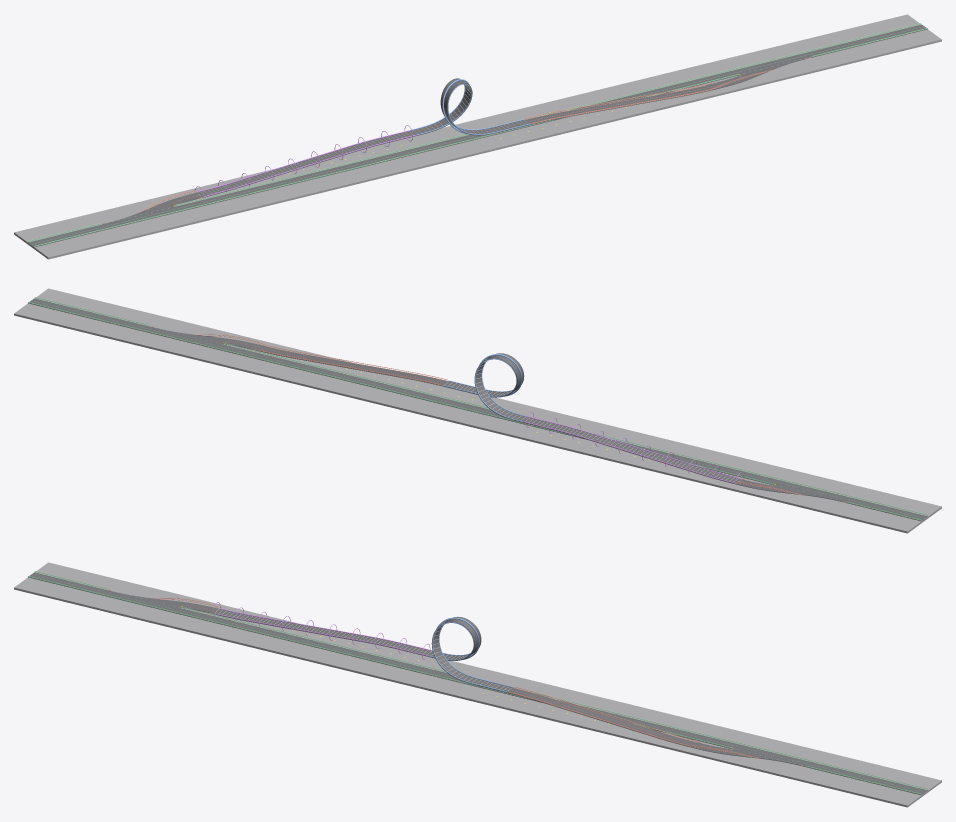
The model's file is lp01_loop_proof_v3.glb.
3 views of the same model, one above another, from view 1: azimuth 30°, elevation 25°; view 2: azimuth 150°, elevation 25°; view 3: azimuth 330°, elevation 25° (orthographic).
Parts seen in each view (by area): view 1: LP01_bridge_deck, LP01_loop_branch_deck, LP01_through_deck_B, LP01_rib_through_road_barrierL.004, LP01_rib_through_road_barrierR.004, LP01_through_deck_C, LP01_rib_through_road_edgeL.004, LP01_rib_through_road_edgeR.004, LP01_junction_split_deck, LP01_junction_merge_deck, LP01_rib_through_road_centre.004, LP01_skin_coaster_ties; view 2: LP01_bridge_deck, LP01_loop_branch_deck, LP01_through_deck_B, LP01_rib_through_road_barrierR.004, LP01_rib_through_road_barrierL.004, LP01_through_deck_C, LP01_rib_through_road_edgeR.004, LP01_rib_through_road_edgeL.004, LP01_junction_merge_deck, LP01_junction_split_deck, LP01_skin_coaster_ties, LP01_rib_through_road_centre.004; view 3: LP01_bridge_deck, LP01_loop_branch_deck, LP01_through_deck_B, LP01_rib_through_road_barrierL.004, LP01_rib_through_road_barrierR.004, LP01_through_deck_C, LP01_rib_through_road_edgeL.004, LP01_rib_through_road_edgeR.004, LP01_junction_split_deck, LP01_junction_merge_deck, LP01_rib_through_road_centre.004.
Part boxes in pixels (box(x1,y1,x2,y2)): LP01_bridge_deck: box(14, 14, 941, 259); LP01_loop_branch_deck: box(166, 76, 746, 205); LP01_through_deck_B: box(174, 70, 738, 211); LP01_rib_through_road_barrierL.004: box(28, 23, 921, 241); LP01_rib_through_road_barrierR.004: box(34, 28, 927, 246); LP01_through_deck_C: box(805, 24, 927, 57); LP01_rib_through_road_edgeL.004: box(28, 24, 921, 242); LP01_rib_through_road_edgeR.004: box(34, 28, 927, 246); LP01_junction_split_deck: box(103, 201, 180, 228); LP01_junction_merge_deck: box(733, 53, 810, 80); LP01_rib_through_road_centre.004: box(31, 26, 924, 244); LP01_skin_coaster_ties: box(196, 84, 528, 195); LP01_bridge_deck: box(14, 288, 941, 533); LP01_loop_branch_deck: box(225, 339, 773, 490); LP01_through_deck_B: box(217, 344, 781, 485); LP01_rib_through_road_barrierR.004: box(34, 297, 927, 515); LP01_rib_through_road_barrierL.004: box(28, 302, 921, 520); LP01_through_deck_C: box(28, 298, 150, 331); LP01_rib_through_road_edgeR.004: box(34, 298, 927, 516); LP01_rib_through_road_edgeL.004: box(28, 302, 921, 520); LP01_junction_merge_deck: box(145, 327, 229, 349); LP01_junction_split_deck: box(769, 481, 852, 502); LP01_skin_coaster_ties: box(444, 361, 739, 483); LP01_rib_through_road_centre.004: box(31, 300, 924, 518); LP01_bridge_deck: box(14, 562, 941, 807); LP01_loop_branch_deck: box(182, 602, 730, 754); LP01_through_deck_B: box(174, 608, 738, 748); LP01_rib_through_road_barrierL.004: box(34, 571, 927, 789); LP01_rib_through_road_barrierR.004: box(28, 576, 921, 794); LP01_through_deck_C: box(804, 762, 927, 795); LP01_rib_through_road_edgeL.004: box(34, 572, 927, 790); LP01_rib_through_road_edgeR.004: box(28, 576, 921, 794); LP01_junction_split_deck: box(102, 590, 186, 612); LP01_junction_merge_deck: box(726, 744, 809, 766); LP01_rib_through_road_centre.004: box(31, 574, 924, 792).
Bounding box in the file's own units: 960 × 68.82 × 64.
